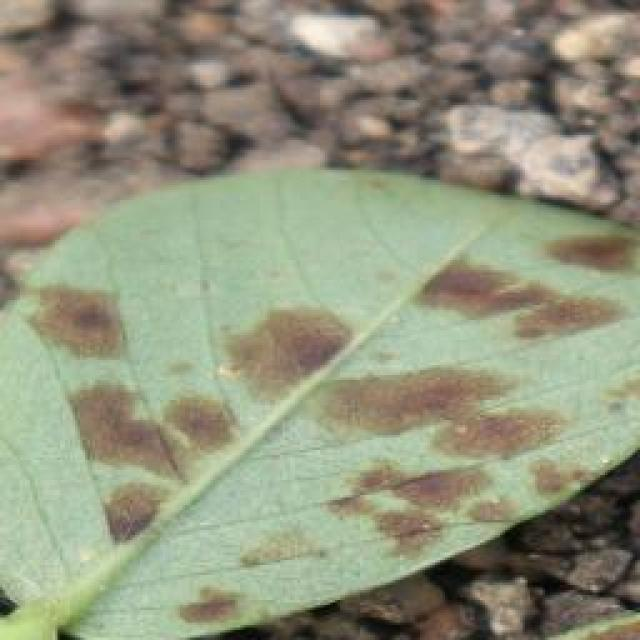Whitefly: (30, 189, 640, 640)
